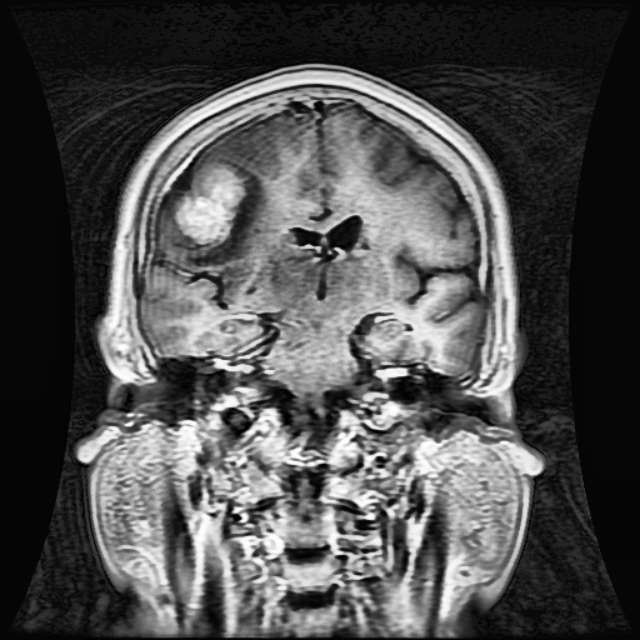Glioma: (175, 163, 245, 247)
